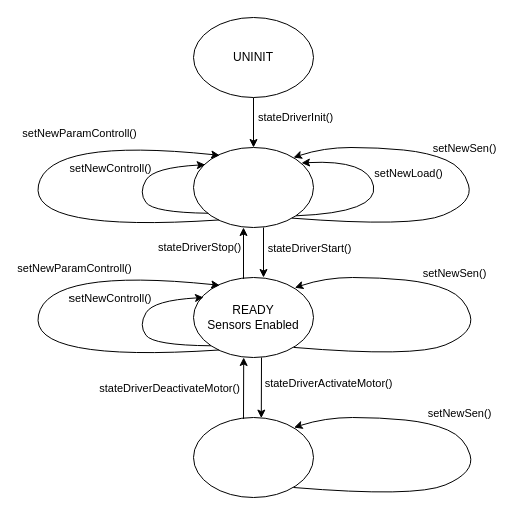
The diagram is 513 pixels wide and 515 high, and some of its shapes have lost their labels. The box of each missing label's shape, as (x1, y1, x2, y2) in pixels:
ACTIVE Motor enabled: (192, 416, 314, 498)
STOP: (192, 146, 314, 228)
